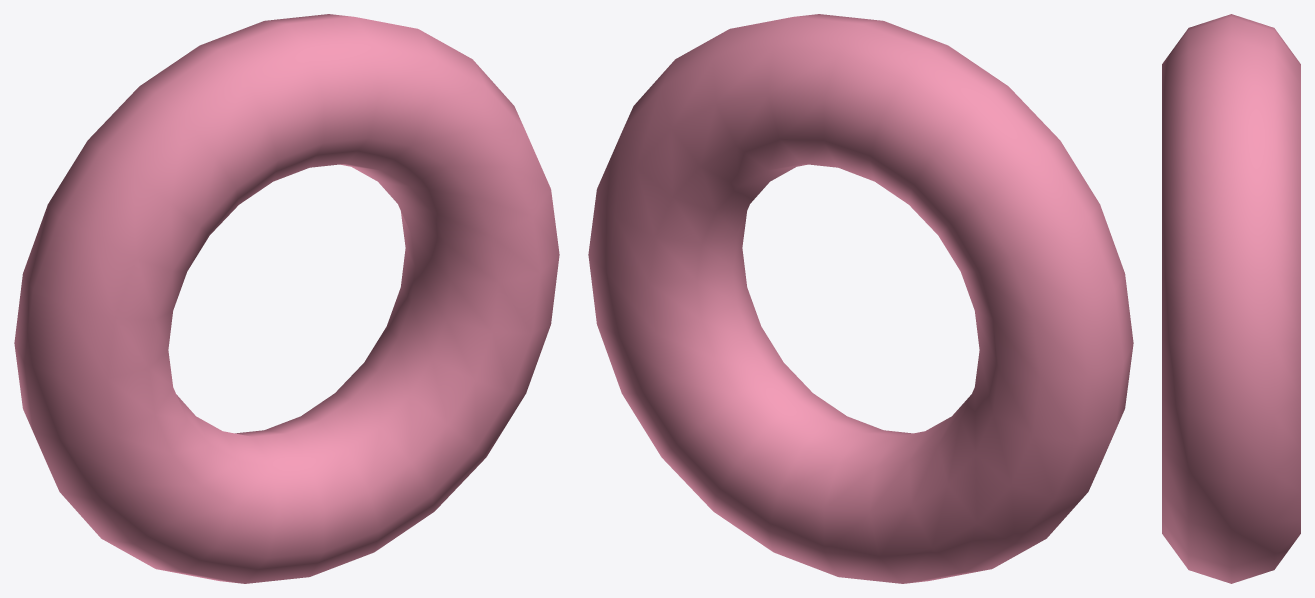
Rendered from mouth-o.glb.
3 renders of one model, left to right at view 1: azimuth 30°, elevation 25°; view 2: azimuth 150°, elevation 25°; view 3: azimuth 270°, elevation 25°, orthographic. The views are drawn at different scales.
Visible parts, largest first — view 1: CMP_Critter_Mouth_O_Ring; view 2: CMP_Critter_Mouth_O_Ring; view 3: CMP_Critter_Mouth_O_Ring.
Boxes of the visible parts, x1,y1,x2,y2 form: CMP_Critter_Mouth_O_Ring: (14,14,559,583); CMP_Critter_Mouth_O_Ring: (588,14,1133,583); CMP_Critter_Mouth_O_Ring: (1162,14,1300,583).
Bounding box in the file's own units: 0.564 × 0.564 × 0.137.
